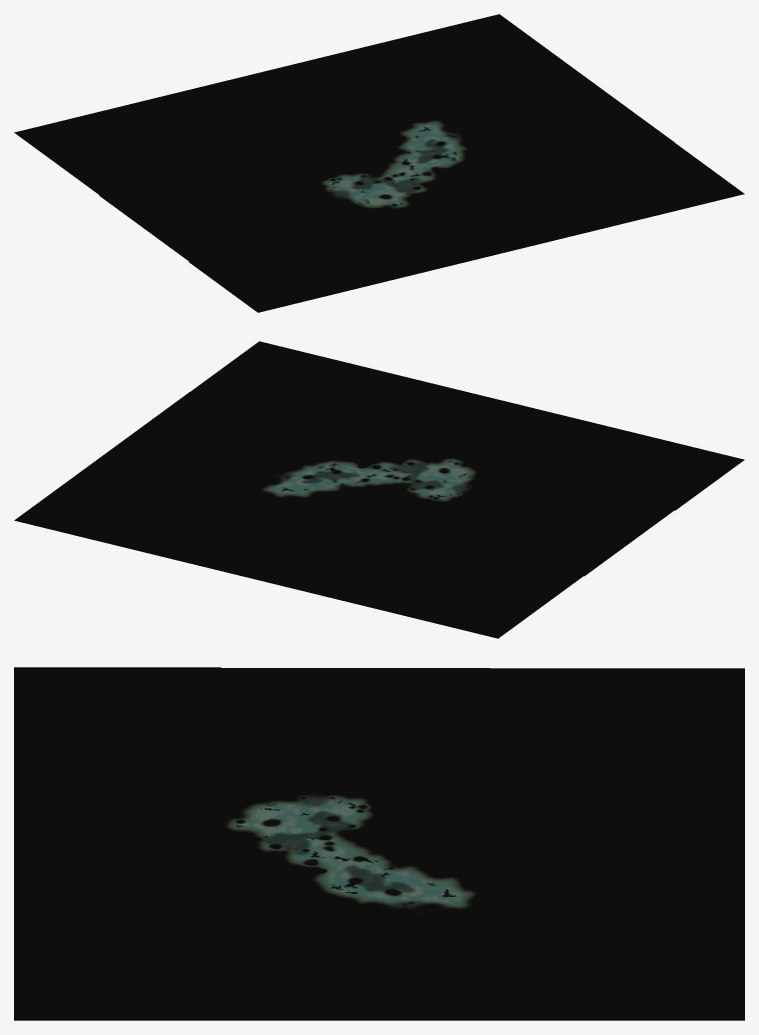
The model's file is pir_m_are_swm_a_water.fbx.
The picture shows the model from 3 angles, top to bottom: view 1: azimuth 30°, elevation 25°; view 2: azimuth 150°, elevation 25°; view 3: azimuth 270°, elevation 25°; orthographic projection. The views are drawn at different scales.
Visible parts, largest first — view 1: swampA_water; view 2: swampA_water; view 3: swampA_water.
Part boxes in pixels (bbox=[...]): swampA_water: bbox=[14, 14, 744, 312]; swampA_water: bbox=[14, 341, 744, 638]; swampA_water: bbox=[14, 667, 744, 1020].
Bounding box in the file's own units: 176360 × 0.0251 × 154082.
1 material, 1 textured.
